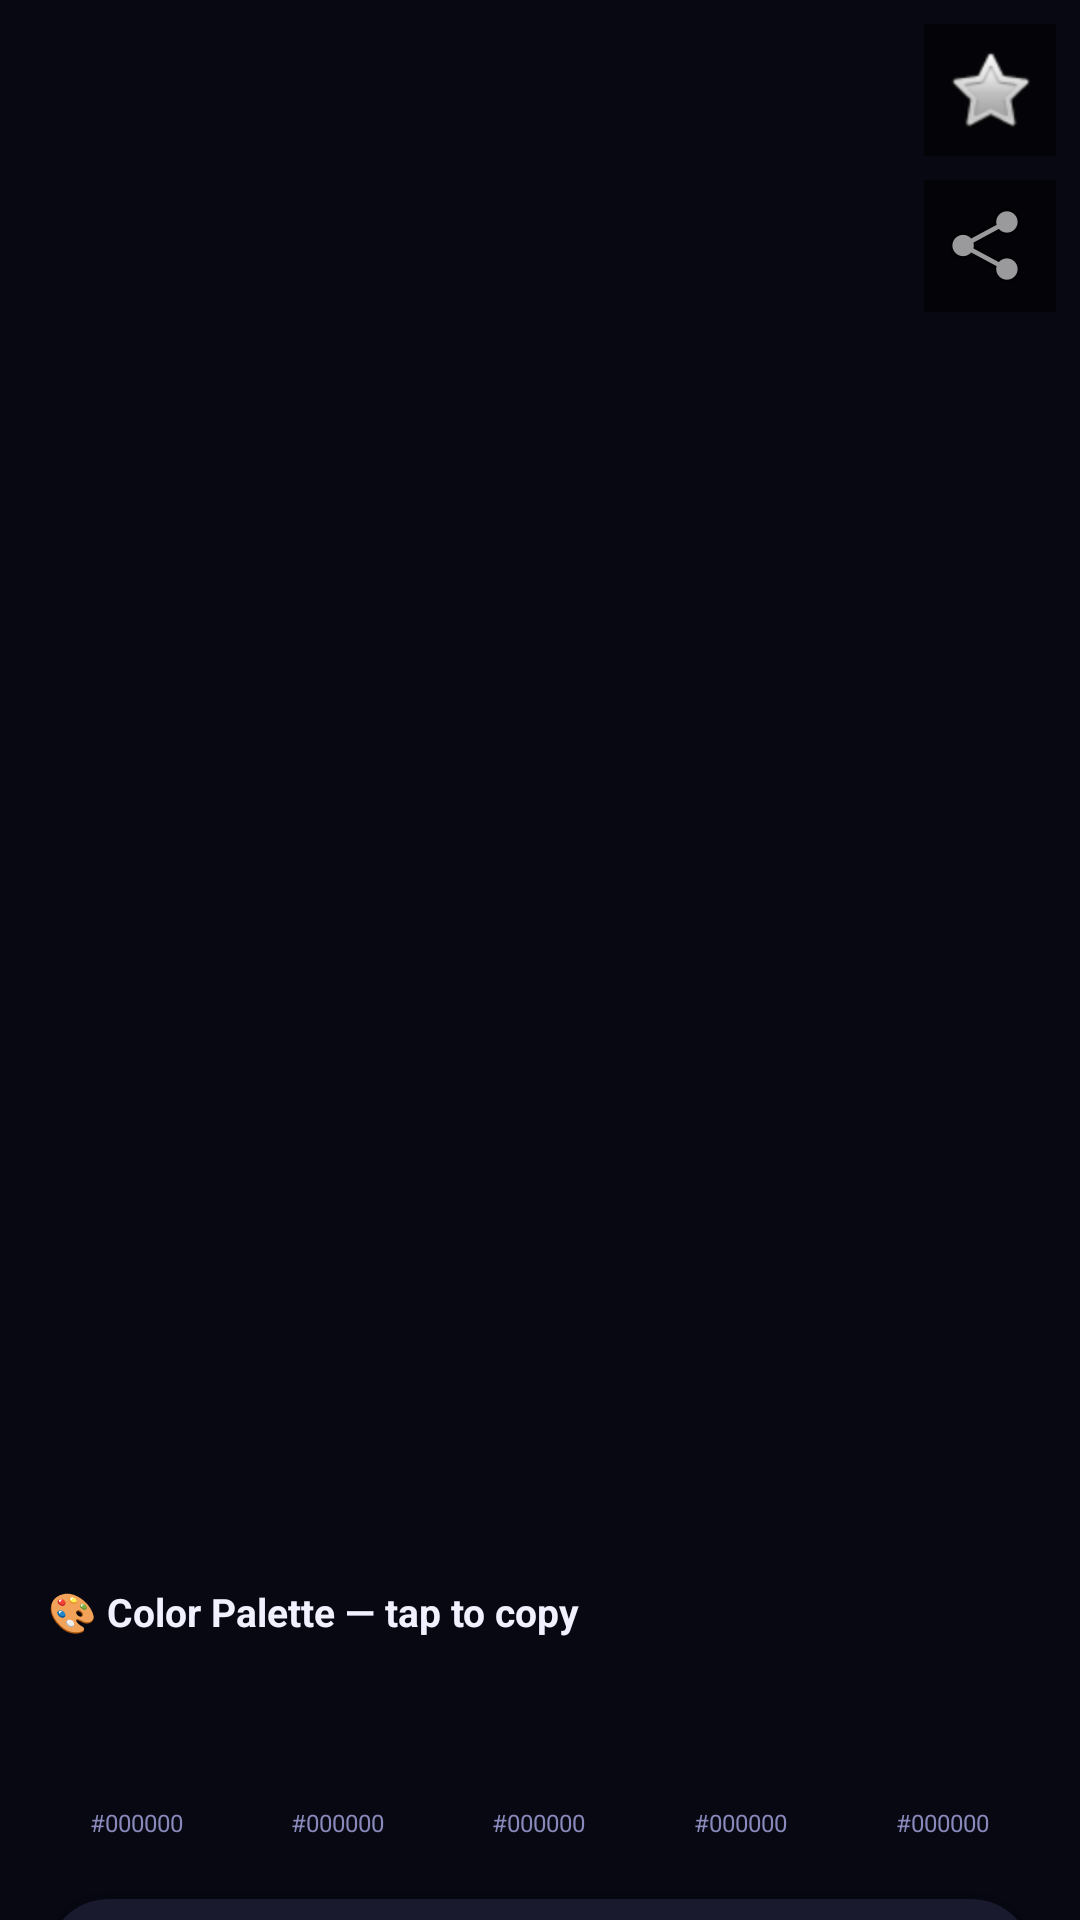

Named icons in this screenshot (1080x1920) and their bounding boxes, (x1, y1, x2, y2):
star off: (952, 53, 1029, 126)
